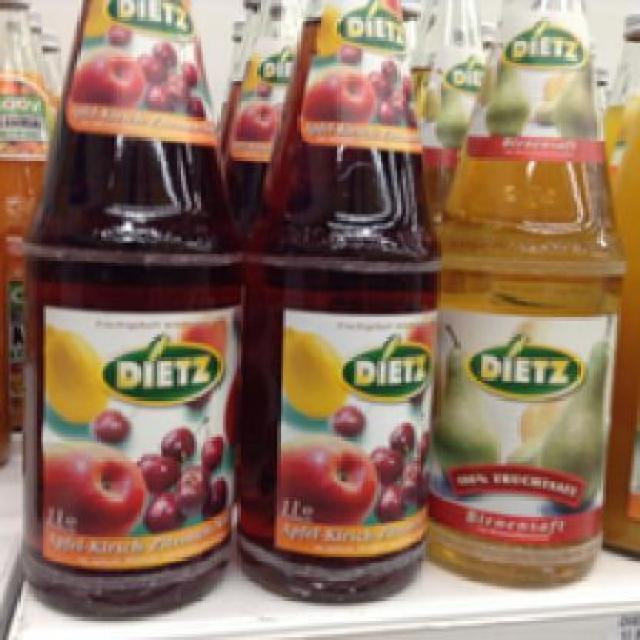Juice: (20, 0, 240, 617), (237, 0, 437, 606), (431, 0, 624, 586)
